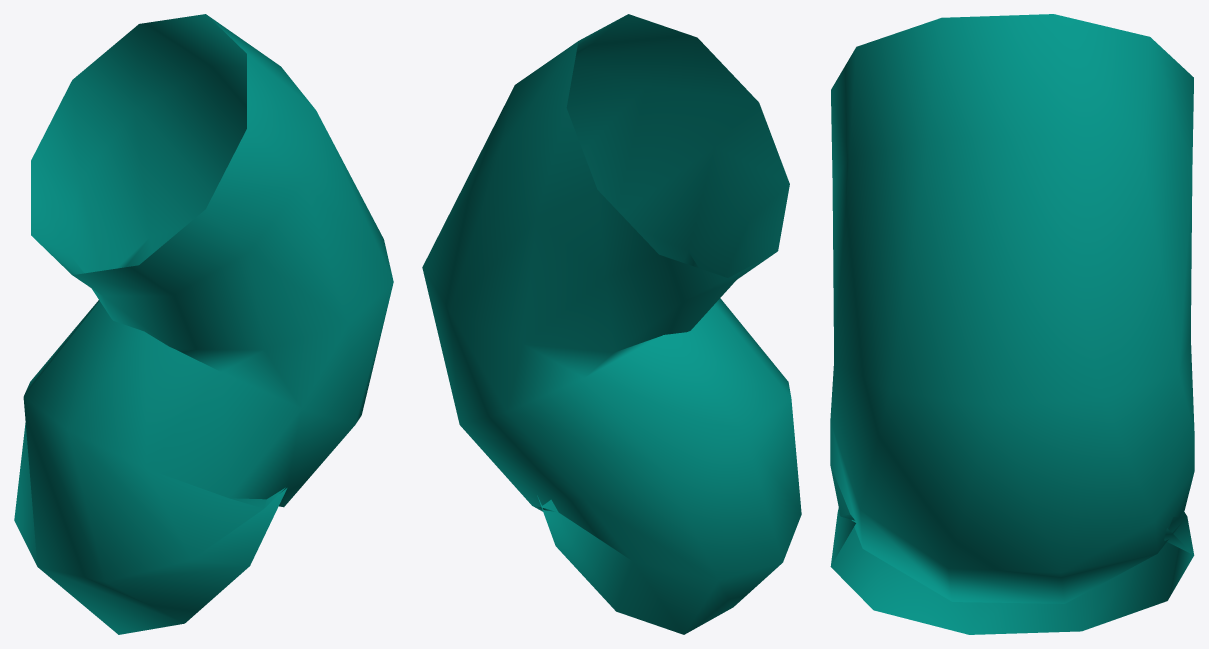
File: test_2022December042019SS.fbx
The picture shows the model from 3 angles, left to right: view 1: azimuth 30°, elevation 25°; view 2: azimuth 150°, elevation 25°; view 3: azimuth 270°, elevation 25°; orthographic projection. The views are drawn at different scales.
Visible parts, largest first — view 1: TubeRenderer(Clone); view 2: TubeRenderer(Clone); view 3: TubeRenderer(Clone).
Boxes of the visible parts, <box> form: TubeRenderer(Clone): <box>14,14,393,634</box>; TubeRenderer(Clone): <box>422,14,801,634</box>; TubeRenderer(Clone): <box>830,14,1194,634</box>.
Bounding box in the file's own units: 0.1763 × 0.2799 × 0.1333.
